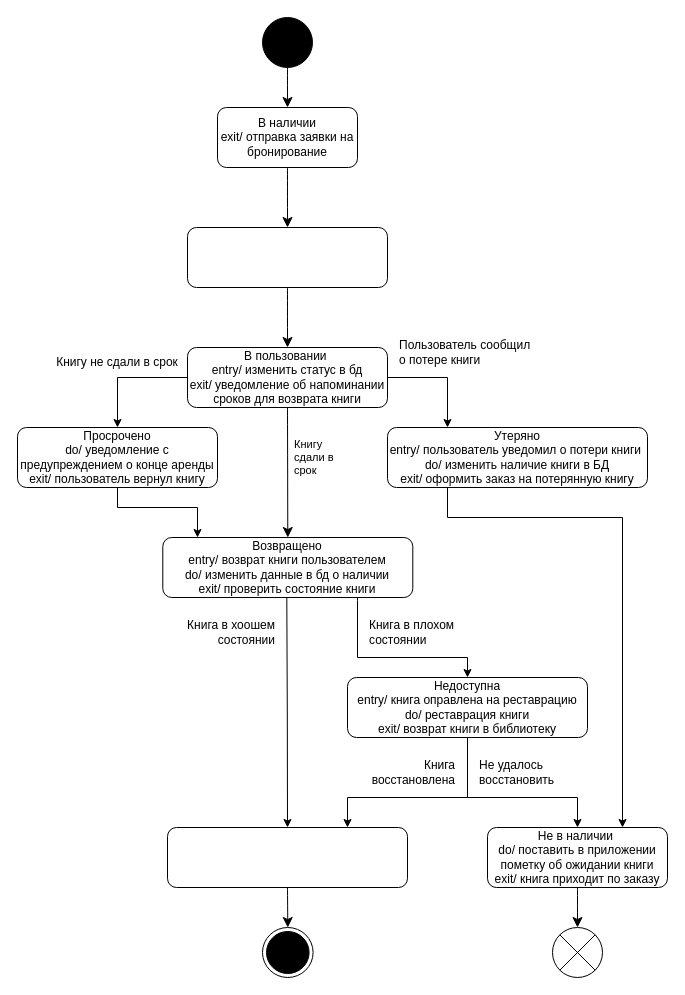
Image size: 685x995. Some labels were removed from this diagram. The shapes that lost their labels are listed below. From the top down, each one's centre as x and y in pixels, then its label:
At (x=287, y=257): "Забронирована exit/ отправлено уведомление о бронировании".
At (x=287, y=857): "В наличии do/ уведомить о доступности книги ожидающим пользователям".
